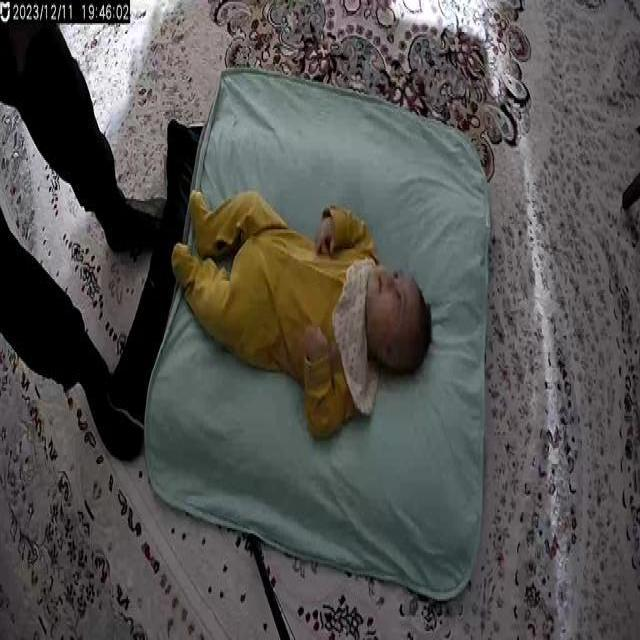baby: (170, 178, 436, 446)
